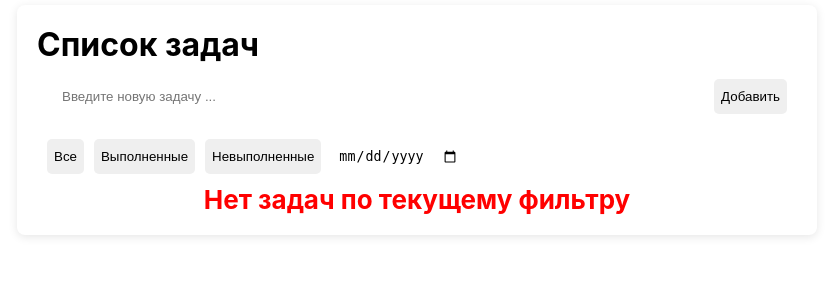
Test: добавляет задачу и отображает её
// Имитируем ввод задачи
Type "задача 1" into the field with placeholder "Введите новую задачу ...".
click(362, 96); type("задача 1")  # box left=47, top=74, right=676, bottom=119
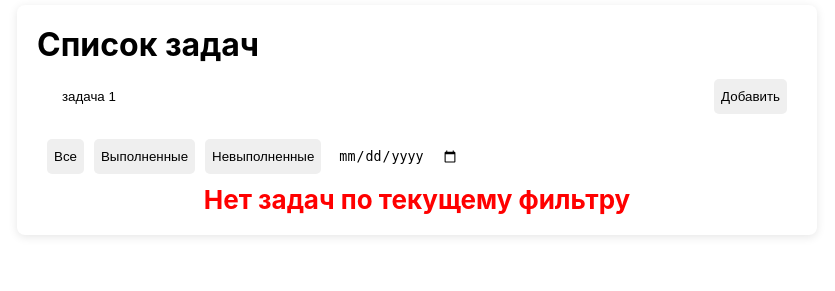
Click the button "Добавить".
click(751, 96)  # box left=714, top=79, right=787, bottom=114
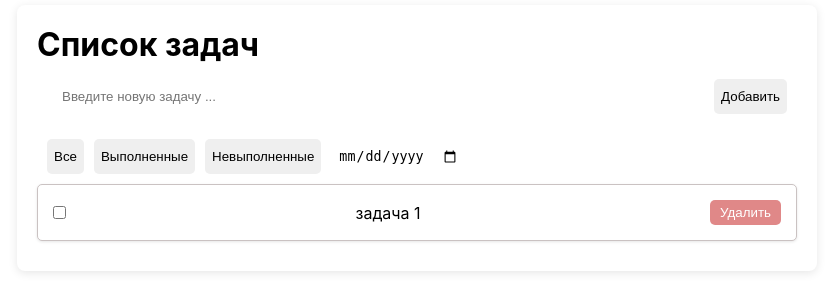
Expected: the text "задача 1" is shown, left=356, top=202, right=420, bottom=222
